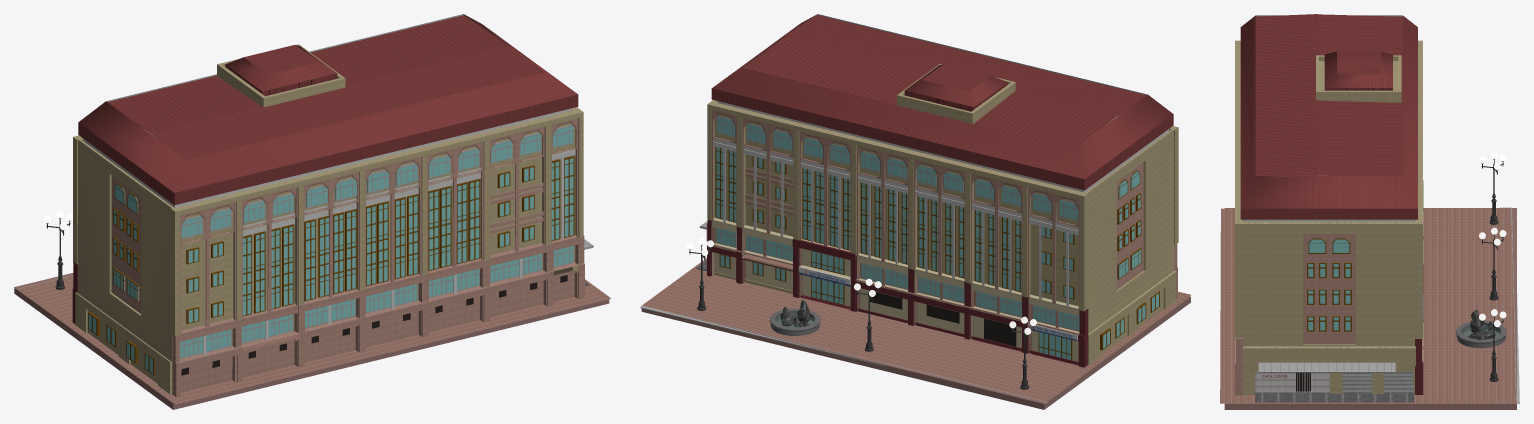
The picture shows the model from 3 angles, left to right: view 1: azimuth 30°, elevation 25°; view 2: azimuth 150°, elevation 25°; view 3: azimuth 270°, elevation 25°; orthographic projection. The views are drawn at different scales.
Visible parts, largest first — view 1: DatacenterThuvien(Clone), Cube; view 2: DatacenterThuvien(Clone), Cube; view 3: DatacenterThuvien(Clone), Cube.
Part boxes in pixels (bbox=[...]): DatacenterThuvien(Clone): bbox=[15, 14, 611, 404]; Cube: bbox=[14, 273, 609, 409]; DatacenterThuvien(Clone): bbox=[640, 14, 1190, 404]; Cube: bbox=[641, 260, 1190, 409]; DatacenterThuvien(Clone): bbox=[1220, 14, 1519, 404]; Cube: bbox=[1224, 208, 1516, 409].
Size of the model in its own units: 2.22 by 1.22 by 1.43.
Materials: 22 (15 with a texture image).
